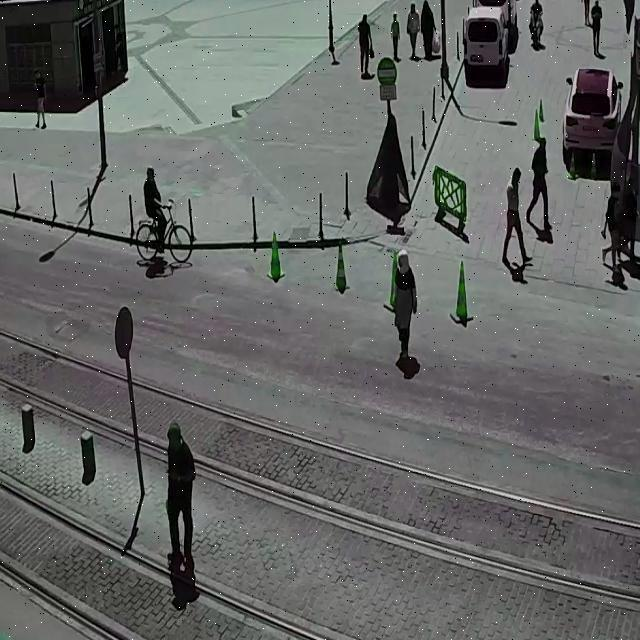Car: (561, 68, 627, 164)
Cycle: (136, 198, 195, 264)
Van: (463, 1, 511, 80)
